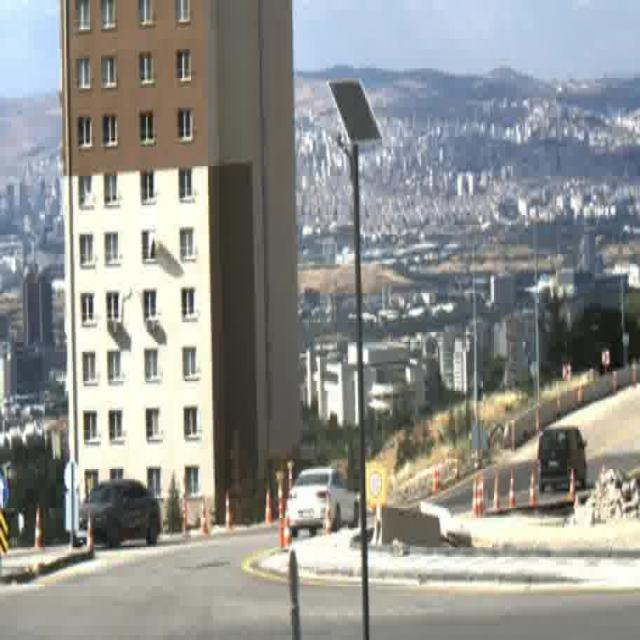Car: (77, 479, 162, 546), (286, 466, 359, 538), (538, 426, 588, 492)
